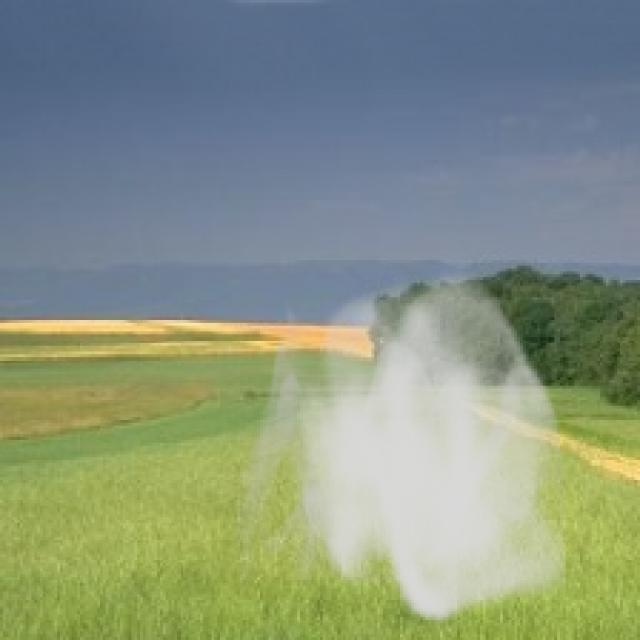smoke: (232, 263, 577, 626)
